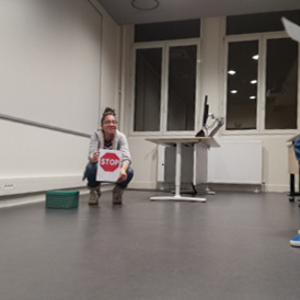stop: (100, 151, 120, 173)
